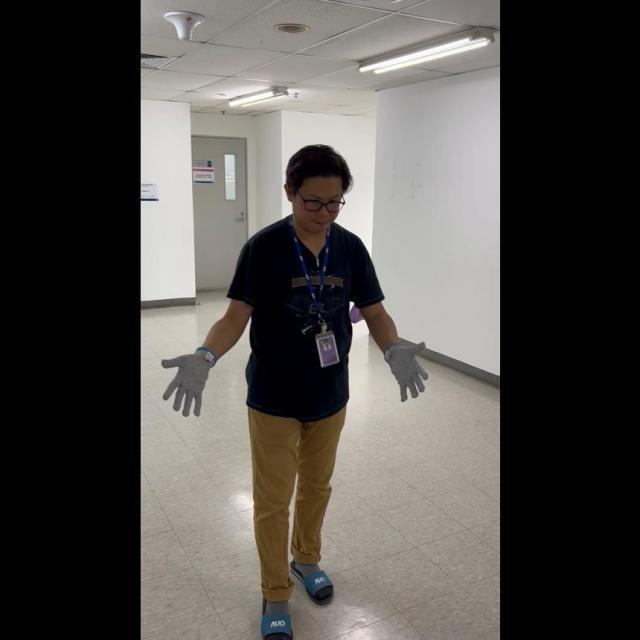gloved_hand: (159, 342, 217, 416), (380, 333, 428, 400)
